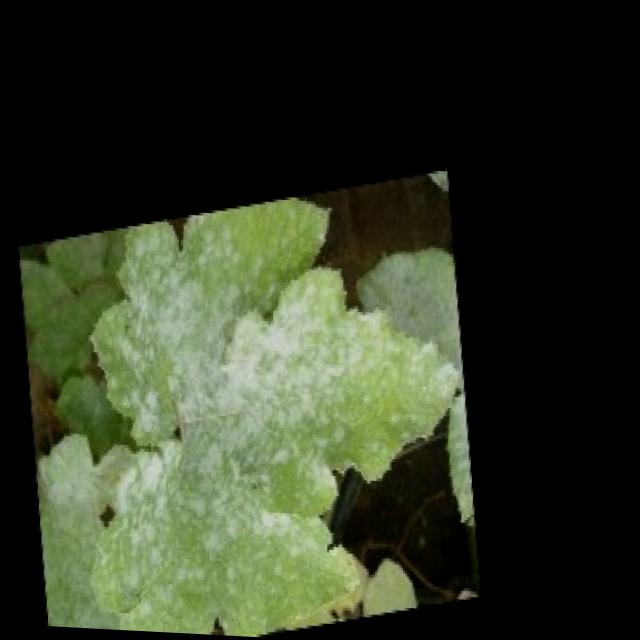Powdery_Mildew: (36, 193, 467, 637)
